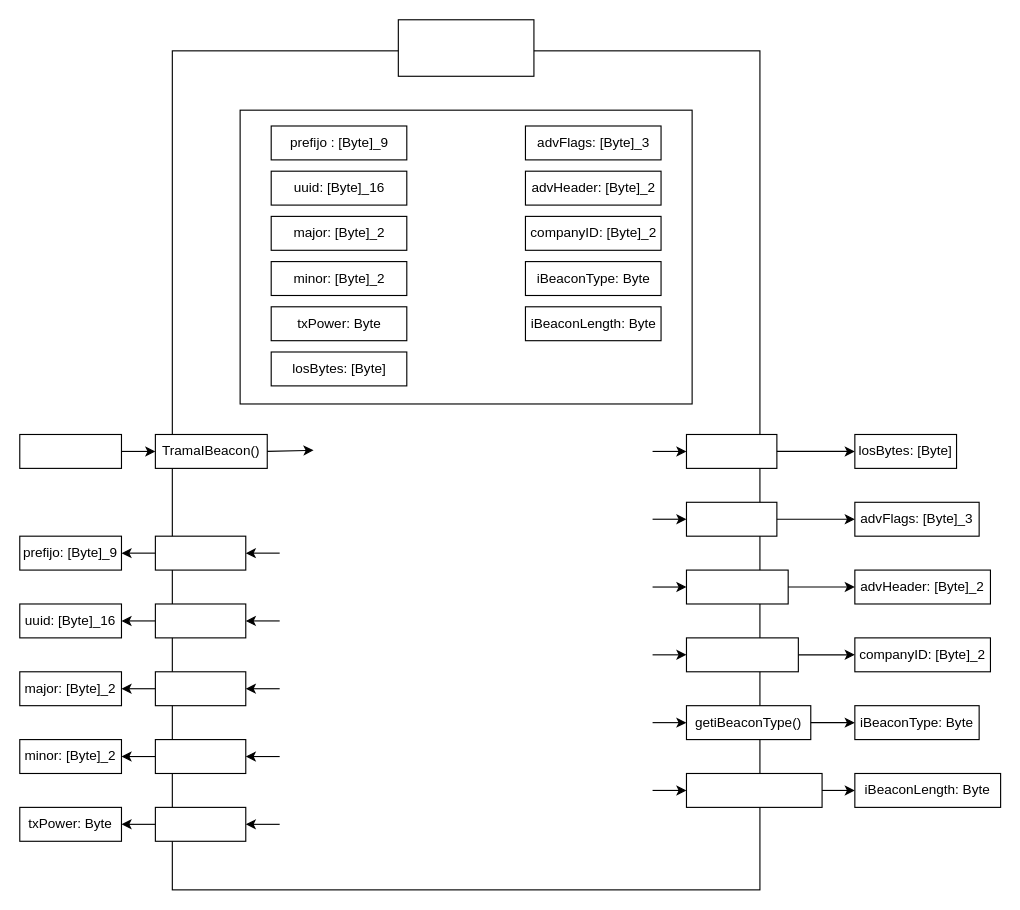
The diagram is 1020 pixels wide and 910 high, and some of its shapes have lost their labels. The centre of each missing label's shape, as x and y in pixels:
bytes: [Byte]: [70,450]
getAdvFlags(): [731,518]
getAdvHeader(): [736,586]
getCompanyID(): [741,654]
getiBeaconLength(): [753,789]
getLosBytes(): [731,450]
getMajor(): [200,688]
getMinor(): [200,755]
getPrefijo(): [200,552]
getTxPower(): [200,823]
getUUID(): [200,620]
TramaIBeacon: [465,47]
